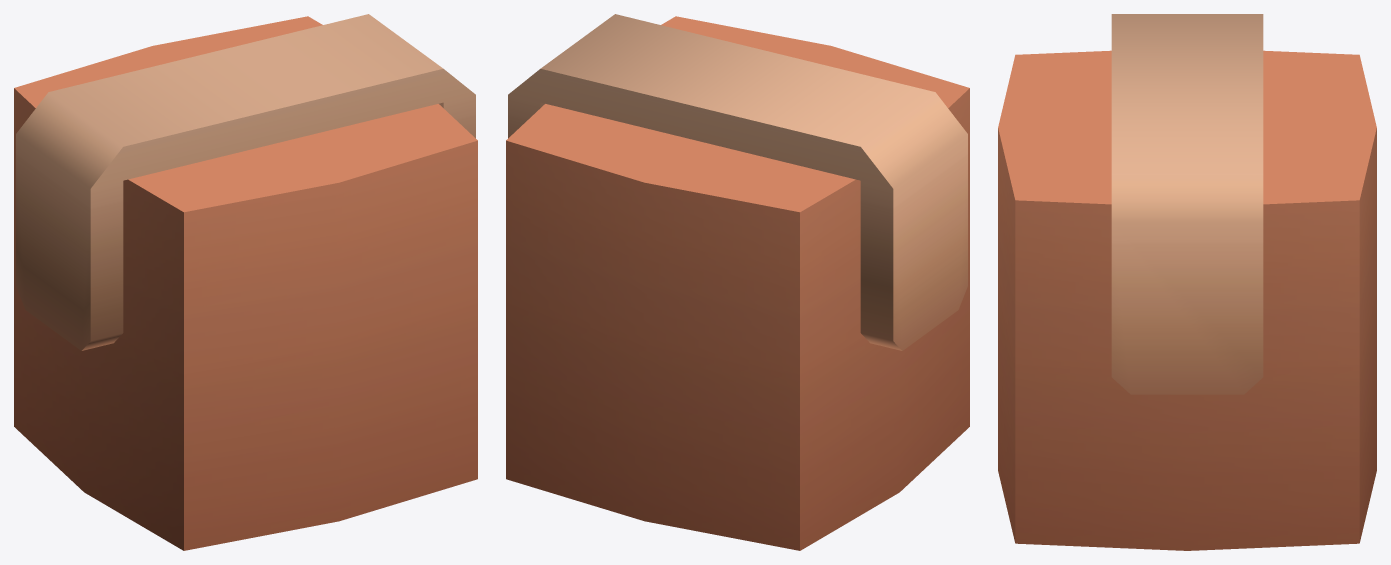
Rendered from box-small.glb.
The picture shows the model from 3 angles, left to right: view 1: azimuth 30°, elevation 25°; view 2: azimuth 150°, elevation 25°; view 3: azimuth 270°, elevation 25°; orthographic projection.
Visible parts, largest first — view 1: box-small; view 2: box-small; view 3: box-small.
Part boxes in pixels (box(x1,y1,x2,y2)): box-small: box(14, 14, 477, 550); box-small: box(506, 14, 969, 550); box-small: box(998, 14, 1376, 550).
Bounding box in the file's own units: 0.595 × 0.55 × 0.5.
1 material, 1 textured.
